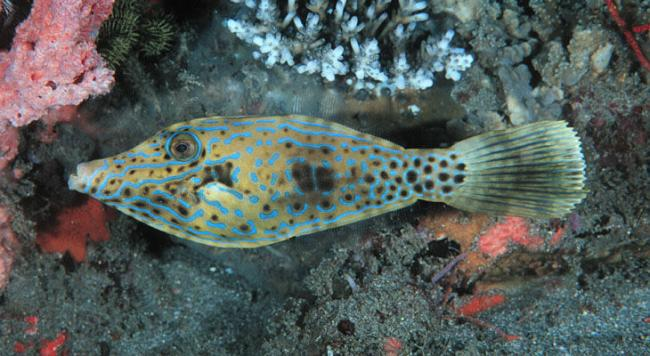fish: (67, 114, 588, 250)
